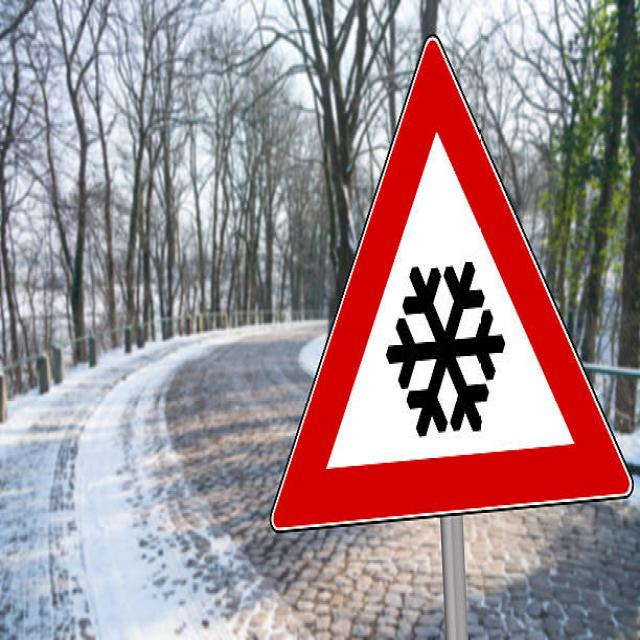snow_warning: (255, 22, 640, 562)
